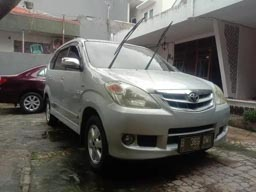plat: (180, 134, 214, 154)
